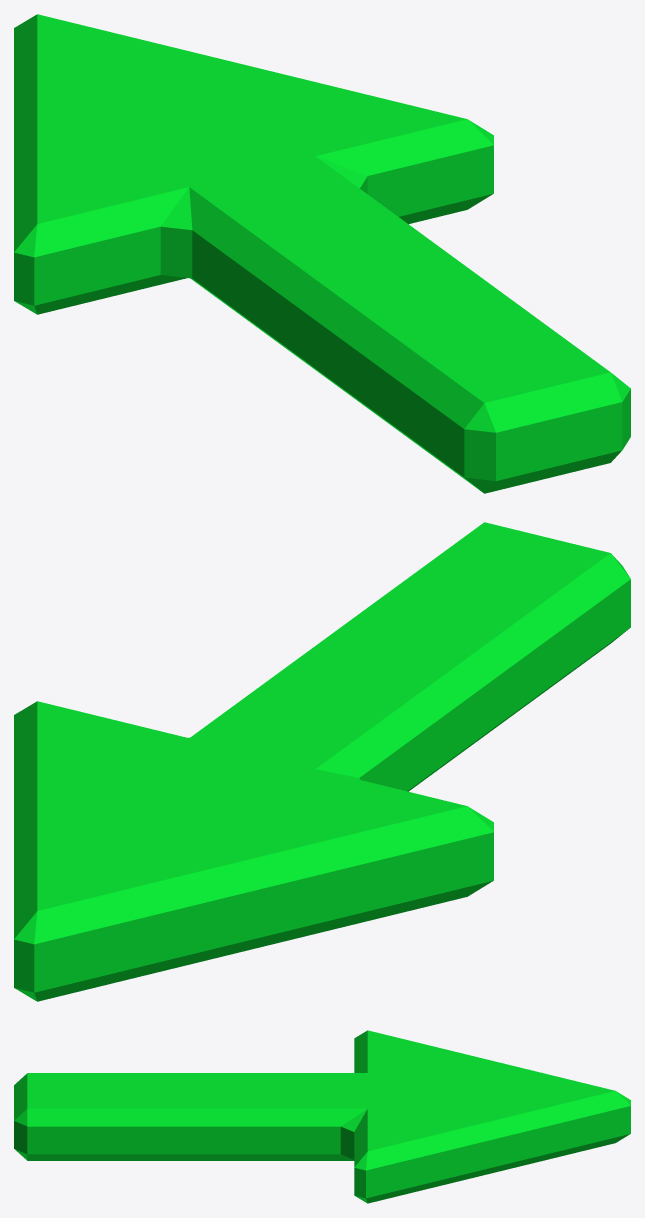
The picture shows the model from 3 angles, top to bottom: view 1: azimuth 30°, elevation 25°; view 2: azimuth 150°, elevation 25°; view 3: azimuth 270°, elevation 25°; orthographic projection. The views are drawn at different scales.
Parts seen in each view (by area): view 1: Daire; view 2: Daire; view 3: Daire.
Part boxes in pixels (x1,y1,x2,y2): Daire: (14, 14, 630, 493); Daire: (14, 522, 630, 1001); Daire: (14, 1030, 630, 1203).
Bounding box in the file's own units: 166 × 30 × 321.
